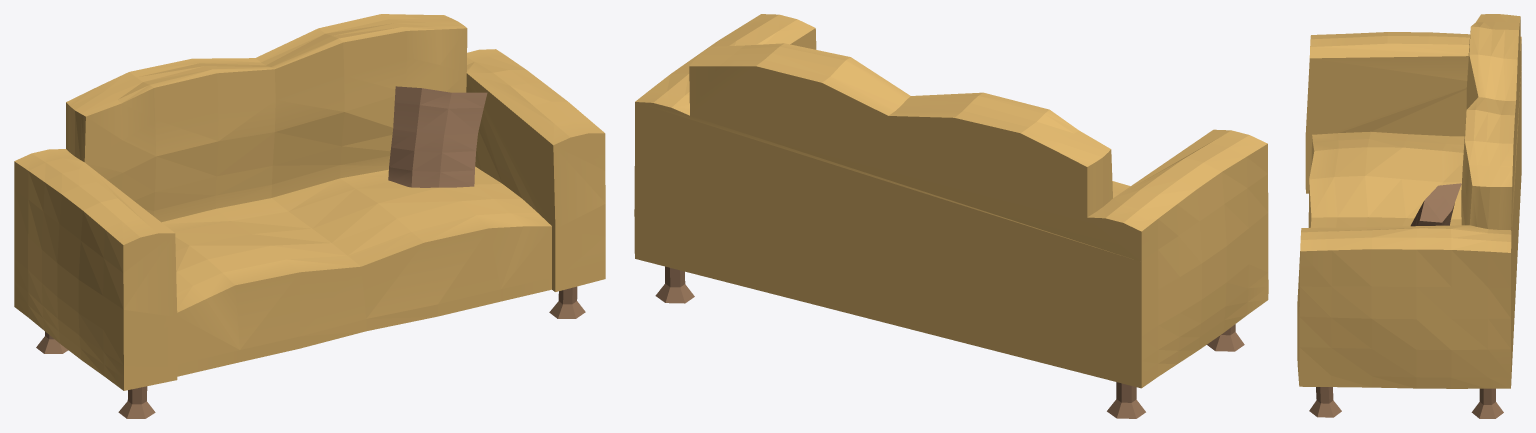
File: old man on sofa.fbx
3 views of the same model, side by side, from view 1: azimuth 30°, elevation 25°; view 2: azimuth 150°, elevation 25°; view 3: azimuth 270°, elevation 25° (orthographic). The views are drawn at different scales.
Parts seen in each view (by area): view 1: Sofa.1; view 2: Sofa.1; view 3: Sofa.1.
Part boxes in pixels (x1,y1,x2,y2): Sofa.1: (14,14,605,418); Sofa.1: (634,14,1268,418); Sofa.1: (1297,14,1521,418).
Size of the model in its own units: 695 by 344 by 299.
